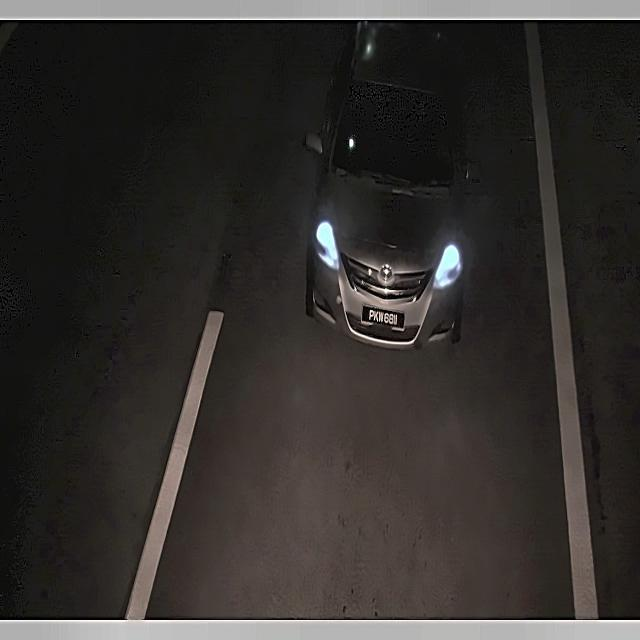car: (356, 298, 411, 332)
